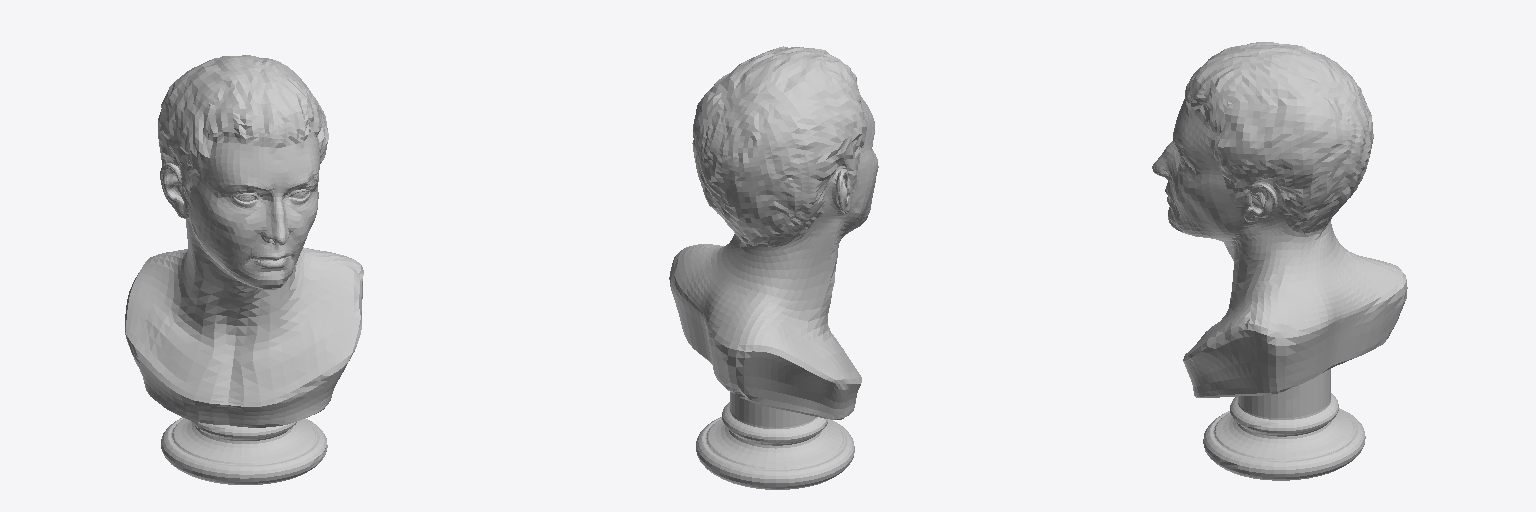
File: marble.obj
3 renders of one model, left to right at view 1: azimuth 30°, elevation 25°; view 2: azimuth 150°, elevation 25°; view 3: azimuth 270°, elevation 25°, orthographic.
Parts seen in each view (by area): view 1: marble_bust_01; view 2: marble_bust_01; view 3: marble_bust_01.
Part boxes in pixels (x1,y1,x2,y2): marble_bust_01: (125,55,363,484); marble_bust_01: (669,46,878,489); marble_bust_01: (1152,42,1407,480).
Bounding box in the file's own units: 0.2717 × 0.5149 × 0.2997.